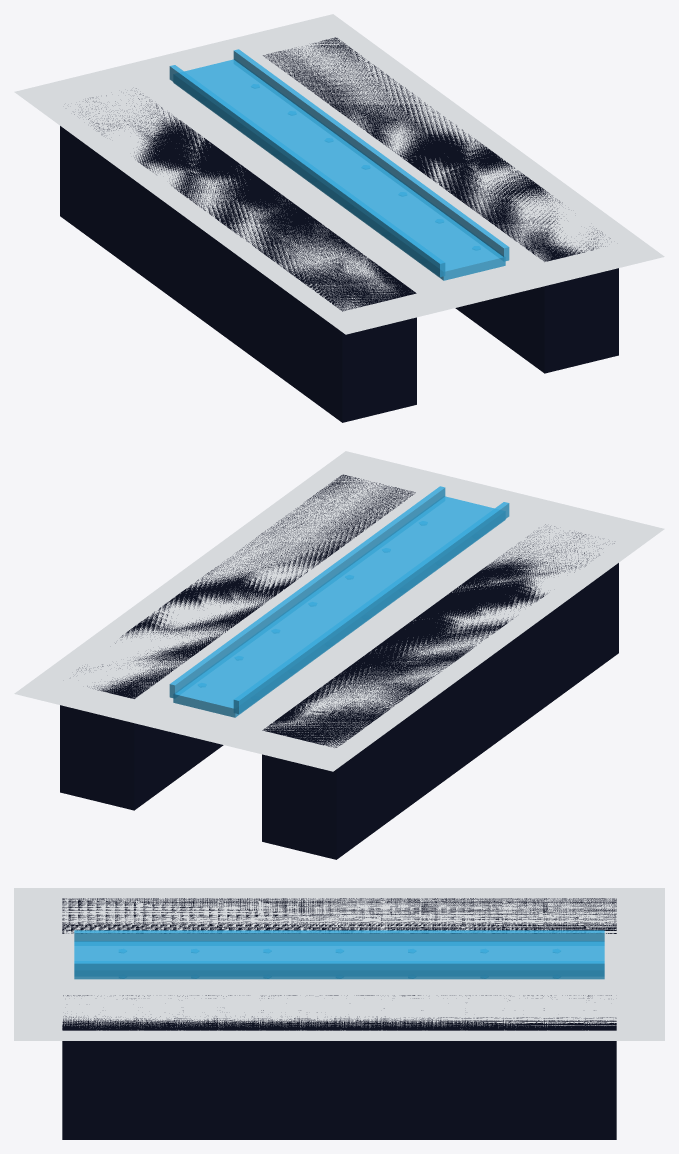
File: dev_05.glb
3 renders of one model, top to bottom at view 1: azimuth 30°, elevation 25°; view 2: azimuth 150°, elevation 25°; view 3: azimuth 270°, elevation 25°, orthographic.
Visible parts, largest first — view 1: DEV_05, scenario_base_floor; view 2: DEV_05, scenario_base_floor; view 3: DEV_05, scenario_base_floor.
Boxes of the visible parts, x1=… form: DEV_05: x1=60, y1=37, x2=618, y2=422; scenario_base_floor: x1=14, y1=14, x2=664, y2=334; DEV_05: x1=60, y1=474, x2=618, y2=859; scenario_base_floor: x1=14, y1=451, x2=664, y2=771; DEV_05: x1=62, y1=898, x2=616, y2=1139; scenario_base_floor: x1=14, y1=888, x2=664, y2=1040.
Bounding box in the file's own units: 30 × 11.6 × 54.
